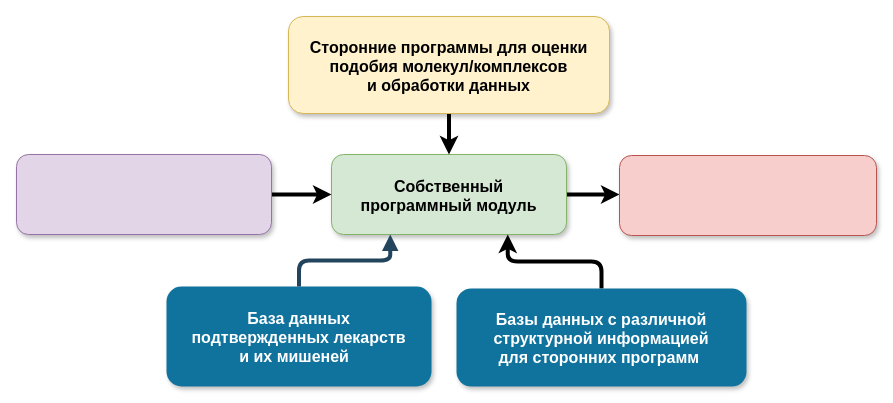
This 893x403 diagram has some shape labels left out. The centre of each missing label's shape, as x and y in pixels:
"Список наиболее близких молекул/комплексов" goes at point (748, 196).
"Тип поиска/обновления и идентификатор/структура молекулы/комплекса" goes at point (145, 196).
